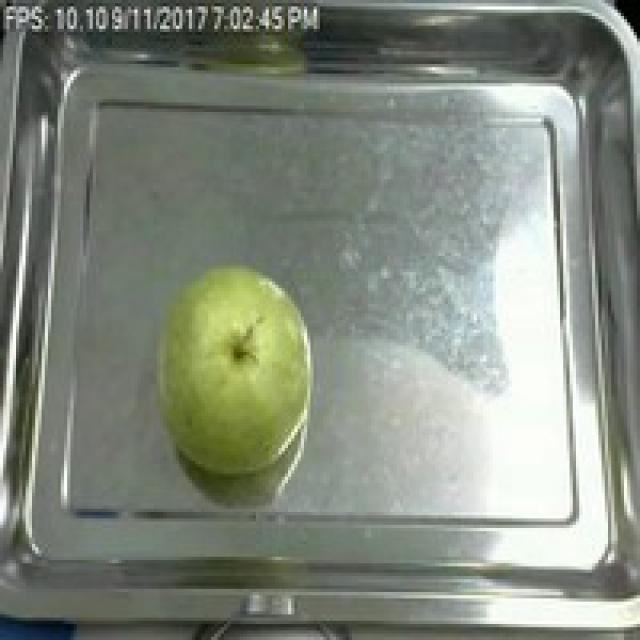Fruit: (138, 250, 323, 483)
